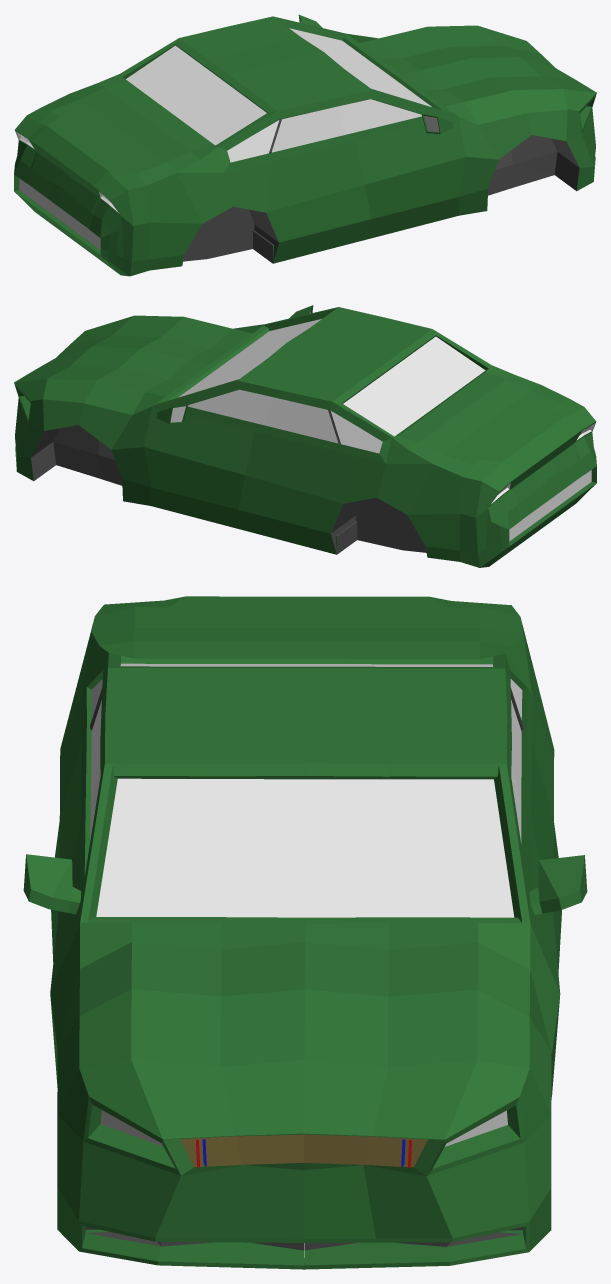
Rendered from BMW.fbx.
3 renders of one model, top to bottom at view 1: azimuth 30°, elevation 25°; view 2: azimuth 150°, elevation 25°; view 3: azimuth 270°, elevation 25°, orthographic. The views are drawn at different scales.
Visible parts, largest first — view 1: BMW; view 2: BMW; view 3: BMW.
Part boxes in pixels (<box>): BMW: <box>14,14,596,276</box>; BMW: <box>14,305,596,567</box>; BMW: <box>23,596,587,1269</box>.
Size of the model in its own units: 1247 by 335 by 604.
